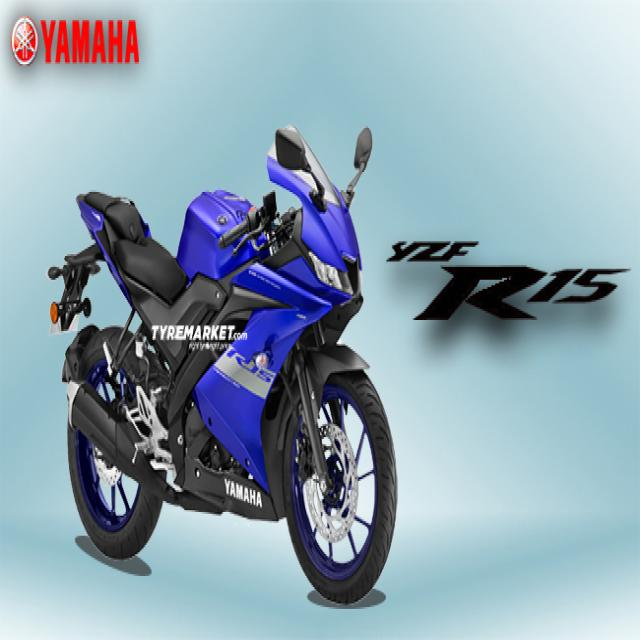motorcycle: (49, 125, 396, 601)
